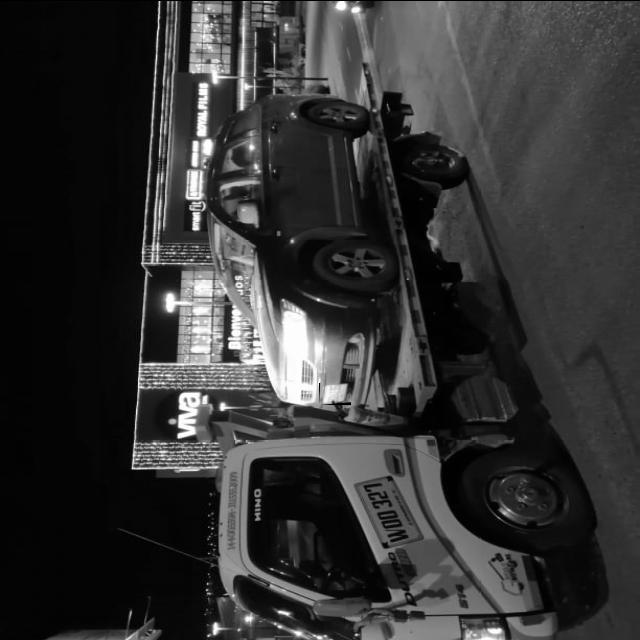plate: (320, 382, 351, 402)
